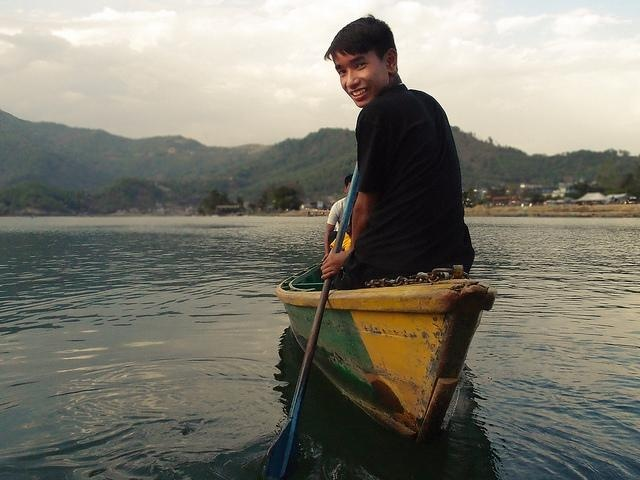otherboat: (255, 258, 501, 439)
person: (329, 10, 476, 290)
